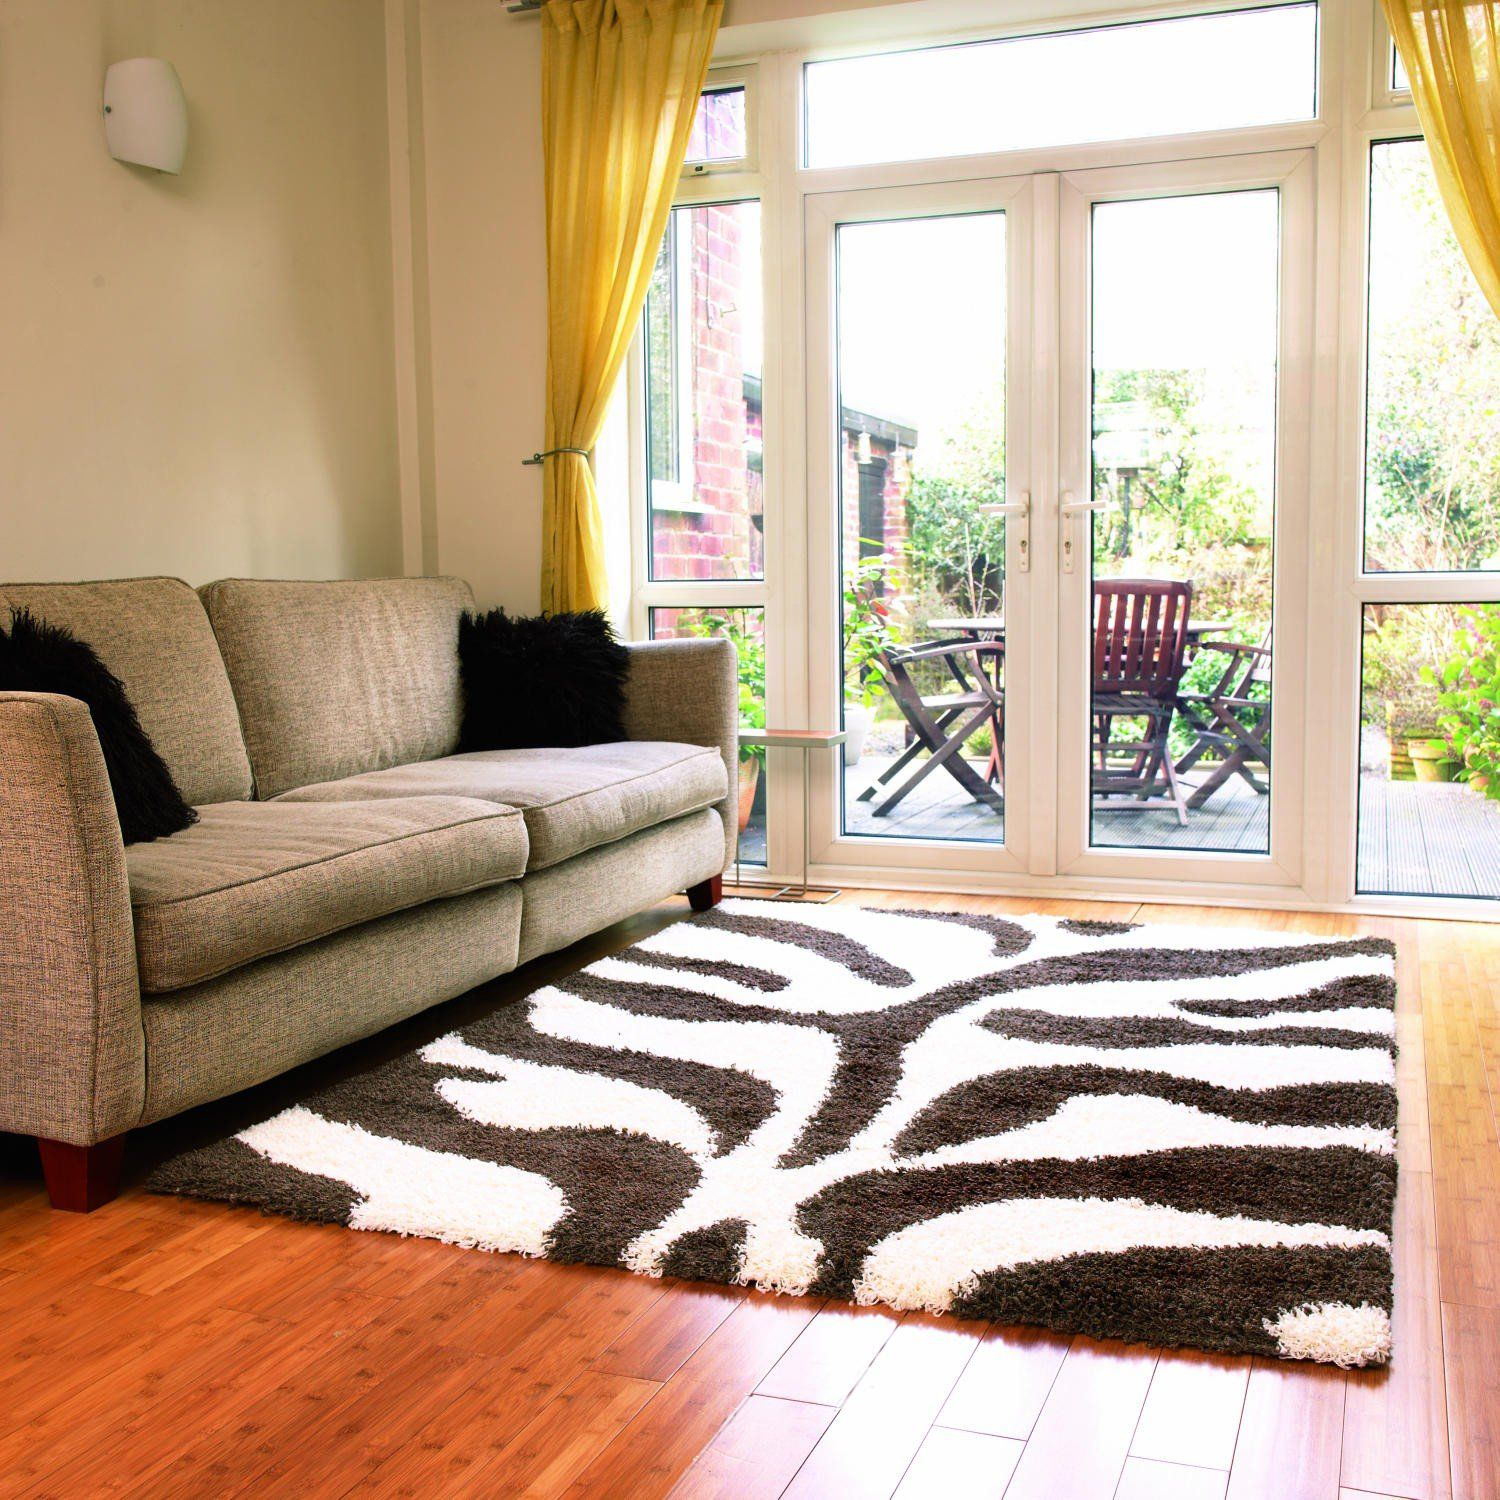hitam: (1, 629, 185, 826), (455, 610, 626, 747)
putih: (102, 62, 202, 170)
